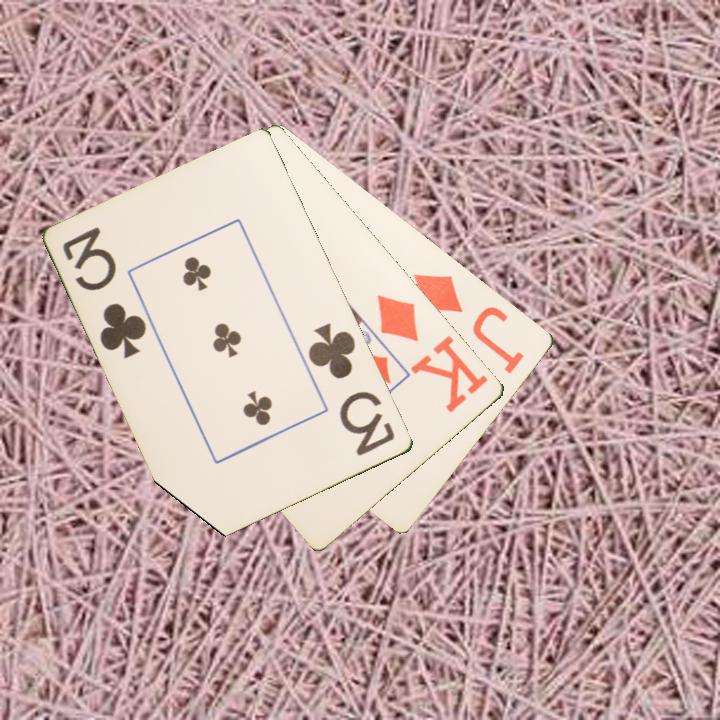3c: (305, 319, 398, 460), (59, 223, 151, 362)
Jd: (410, 269, 528, 377)
Kd: (373, 291, 491, 416)
